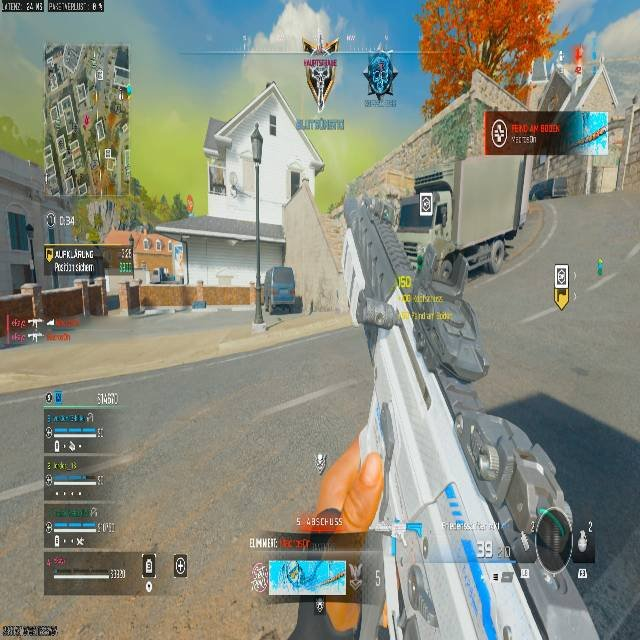player: (363, 54, 397, 106)
